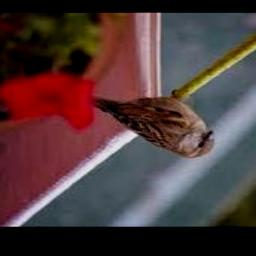Sparrow: (91, 90, 216, 159)
